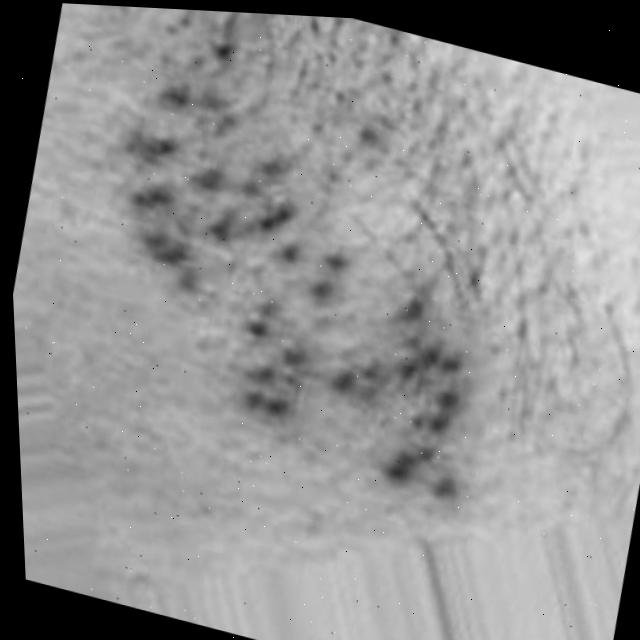Shingles: (72, 56, 526, 520)
